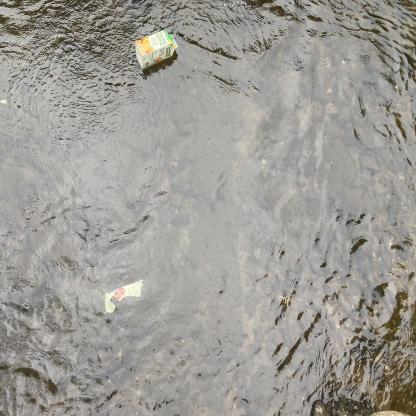trash: (132, 27, 182, 75), (102, 274, 146, 316)
